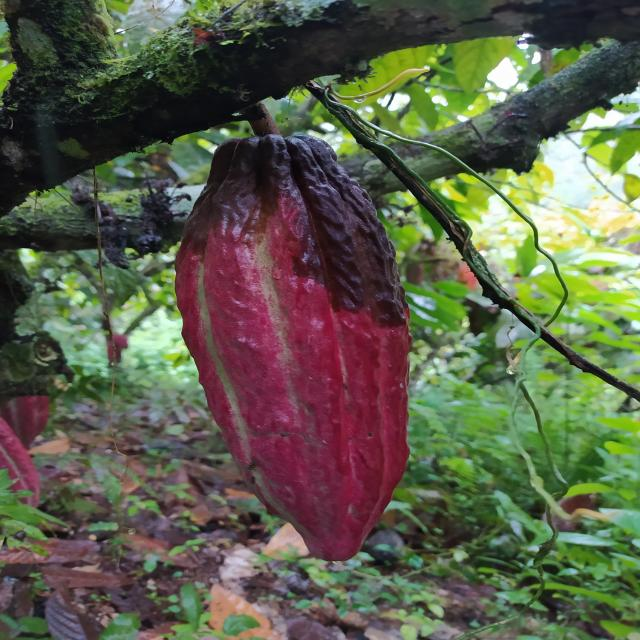Fitoftora: (172, 132, 416, 565)
